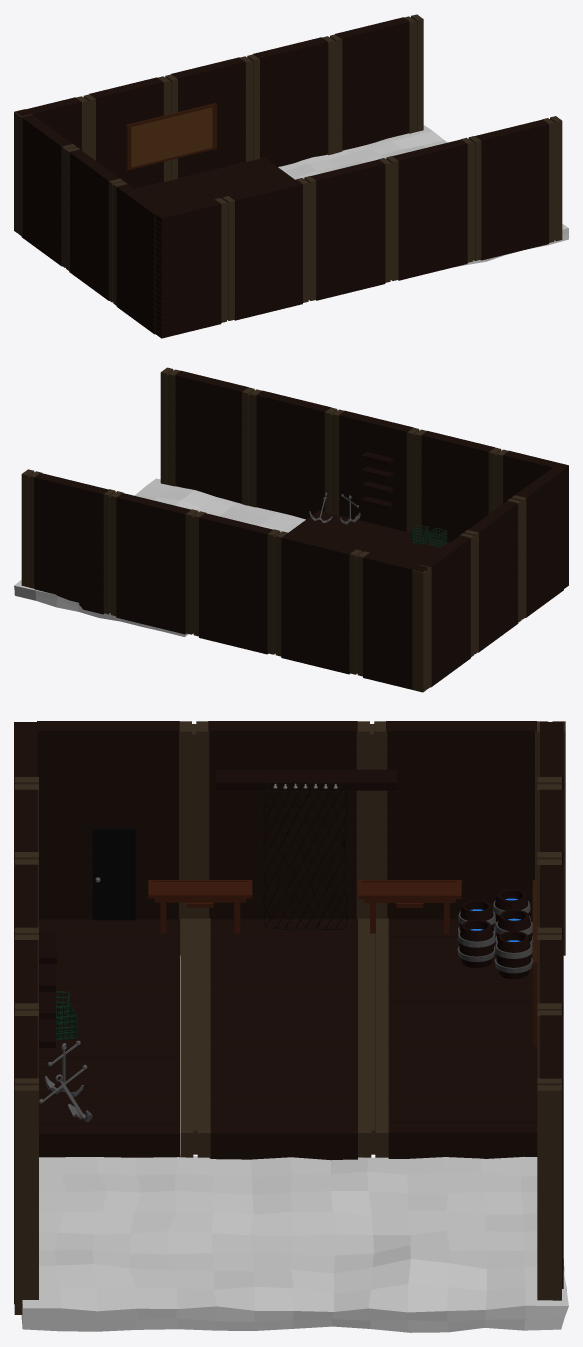
Rendered from boahous.obj.
3 views of the same model, one above another, from view 1: azimuth 30°, elevation 25°; view 2: azimuth 150°, elevation 25°; view 3: azimuth 270°, elevation 25° (orthographic). The views are drawn at different scales.
Visible parts, largest first — view 1: bela, sciana1.004, sciana1.002, sciana1.001, sciana1.005, sciana1.003, sciana1.009, sciana1.010, bela.001, sciana1.008, sciana1.013, sciana1.012 (+7 smaller); view 2: sciana1.009, sciana1.008, sciana1.007, bela.001, sciana1.010, sciana1.004, sciana1.005, bela, sciana1.006, sciana1.001, sciana1.002, sciana1.013 (+6 smaller); view 3: woda.004, podloga1, podloga1.001, podloga1.002, sciana1.013, sciana1.012, sciana1.011, bela.003, bela.002, bela.001, bela, siec (+20 smaller).
Boxes of the visible parts, bbox=[...] form: bela: bbox=[215, 116, 562, 322]; sciana1.004: bbox=[392, 139, 467, 280]; sciana1.002: bbox=[310, 159, 385, 300]; sciana1.001: bbox=[229, 179, 302, 320]; sciana1.005: bbox=[475, 119, 548, 260]; sciana1.003: bbox=[155, 199, 221, 338]; sciana1.009: bbox=[253, 37, 327, 166]; sciana1.010: bbox=[335, 17, 409, 150]; bela.001: bbox=[76, 14, 423, 182]; sciana1.008: bbox=[171, 57, 245, 177]; sciana1.013: bbox=[22, 114, 72, 266]; sciana1.012: bbox=[69, 149, 119, 300]; sciana1.009: bbox=[116, 493, 191, 634]; sciana1.008: bbox=[199, 513, 273, 654]; sciana1.007: bbox=[281, 533, 354, 674]; bela.001: bbox=[21, 469, 369, 676]; sciana1.010: bbox=[34, 473, 109, 614]; sciana1.004: bbox=[256, 390, 331, 519]; sciana1.005: bbox=[175, 370, 248, 503]; bela: bbox=[160, 367, 508, 535]; sciana1.006: bbox=[363, 553, 428, 692]; sciana1.001: bbox=[421, 431, 494, 542]; sciana1.002: bbox=[339, 410, 413, 531]; sciana1.013: bbox=[420, 535, 470, 687]; woda.004: bbox=[21, 1155, 568, 1332]; podloga1: bbox=[209, 919, 357, 1160]; podloga1.001: bbox=[388, 919, 537, 1158]; podloga1.002: bbox=[39, 919, 179, 1157]; sciana1.013: bbox=[386, 721, 536, 919]; sciana1.012: bbox=[208, 721, 357, 919]; sciana1.011: bbox=[37, 721, 179, 919]; bela.003: bbox=[180, 918, 388, 1157]; bela.002: bbox=[179, 721, 565, 955]; bela.001: bbox=[537, 777, 561, 1300]; bela: bbox=[14, 777, 38, 1314]; siec: bbox=[262, 781, 347, 929].
Bounding box in the file's own units: 17.11 × 4.99 × 10.63.
